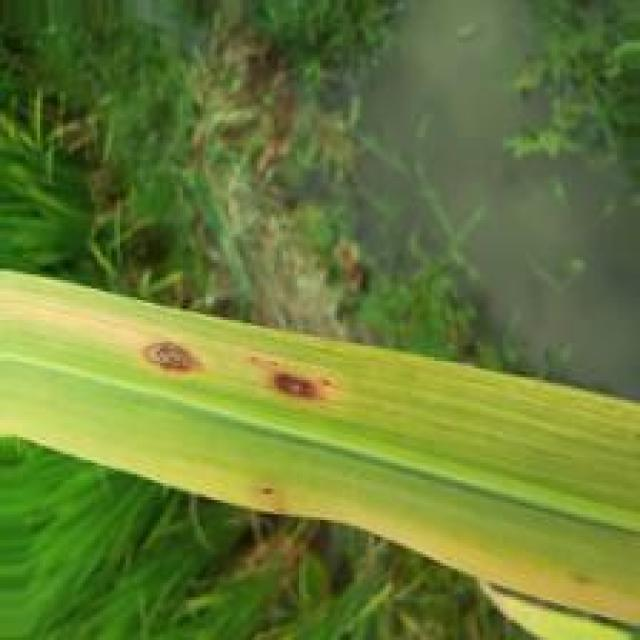Brown_Spot: (135, 334, 207, 375), (264, 361, 328, 404)
